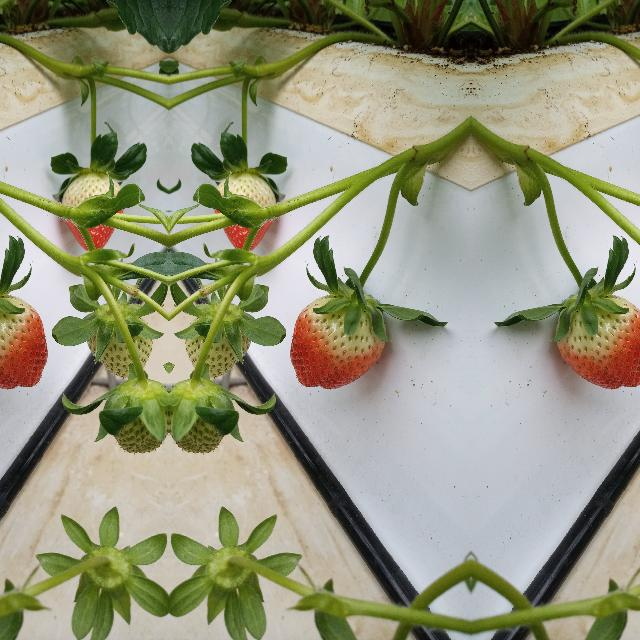Health_25: (170, 368, 230, 458), (106, 368, 166, 458), (181, 298, 253, 372), (83, 298, 155, 372)
Health_75: (288, 294, 386, 390), (555, 294, 640, 389), (0, 294, 47, 389)
